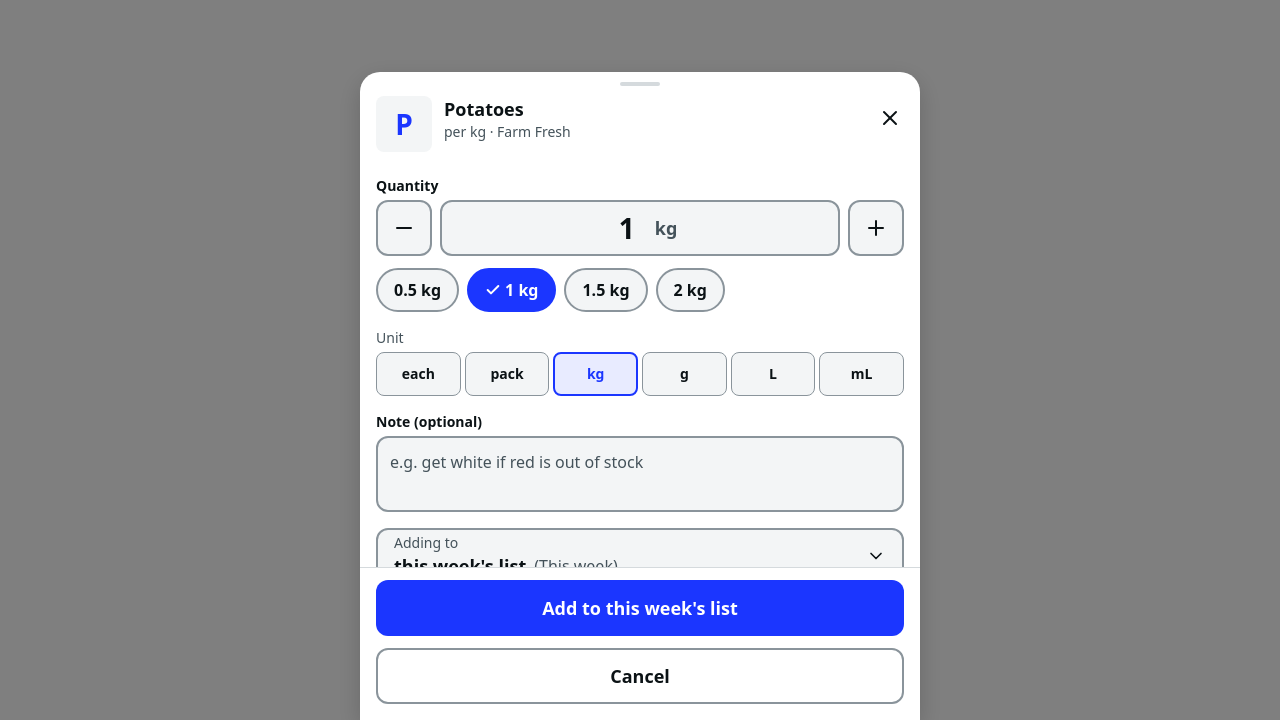
Test: QuantityModal › opens at the unit default and steps kg by 0.25 without float noise
The image size is (1280, 720).
Expected: the dialog is shown, [360,72,920,719]
Expected: the field labelled "Quantity" holds "1", [599,202,655,254]
Click the button named "Increase quantity" at (876, 228), box [848,200,904,256]
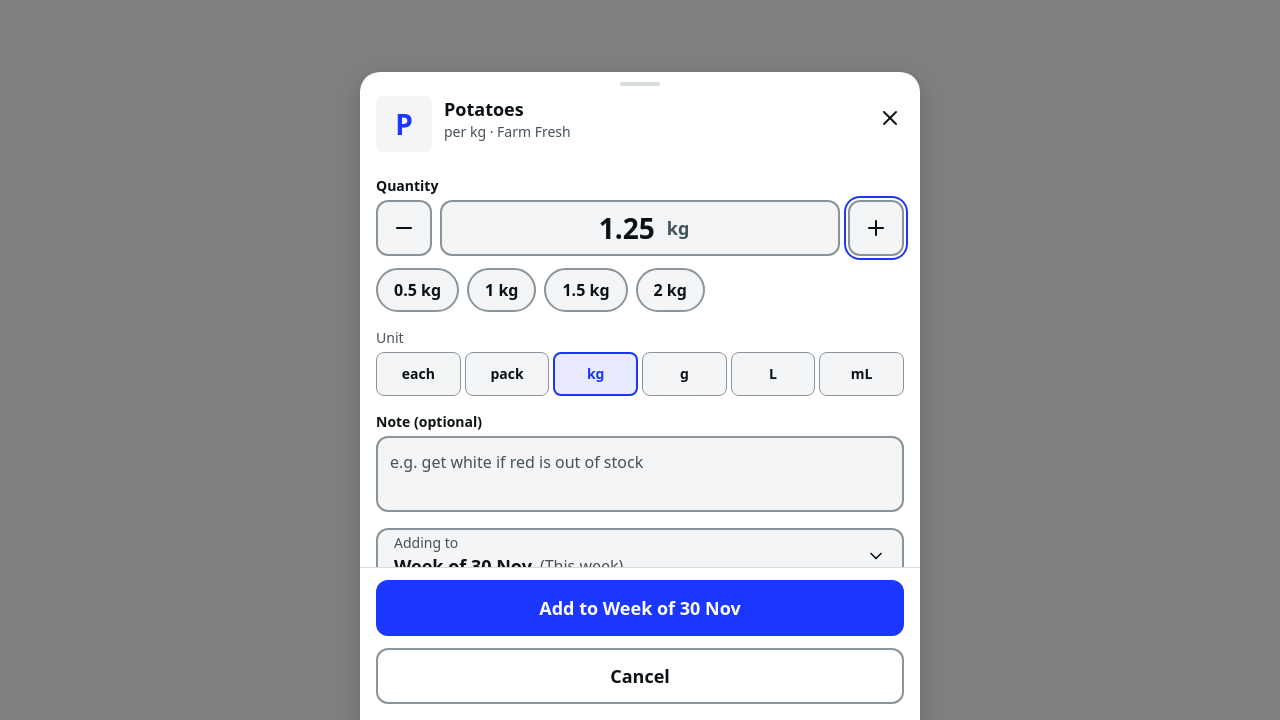
Click the button named "Increase quantity" at (876, 228), box [848,200,904,256]
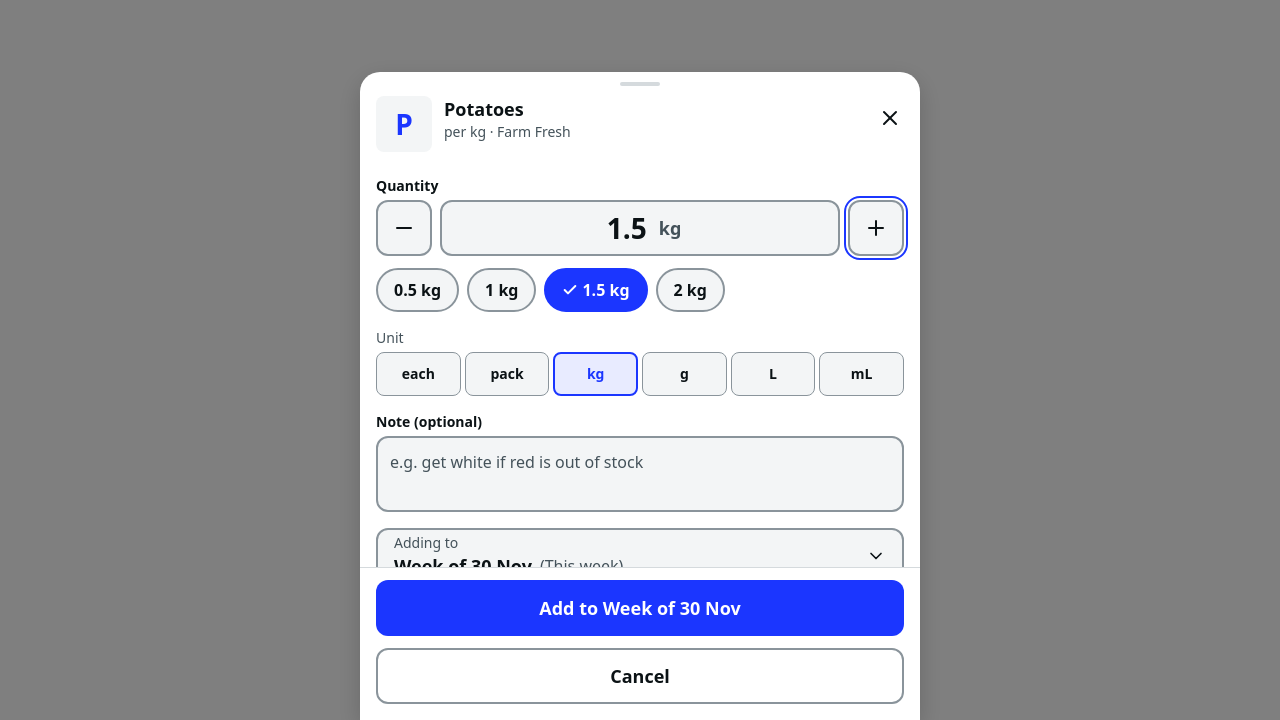
Click the button named "Increase quantity" at (876, 228), box [848,200,904,256]
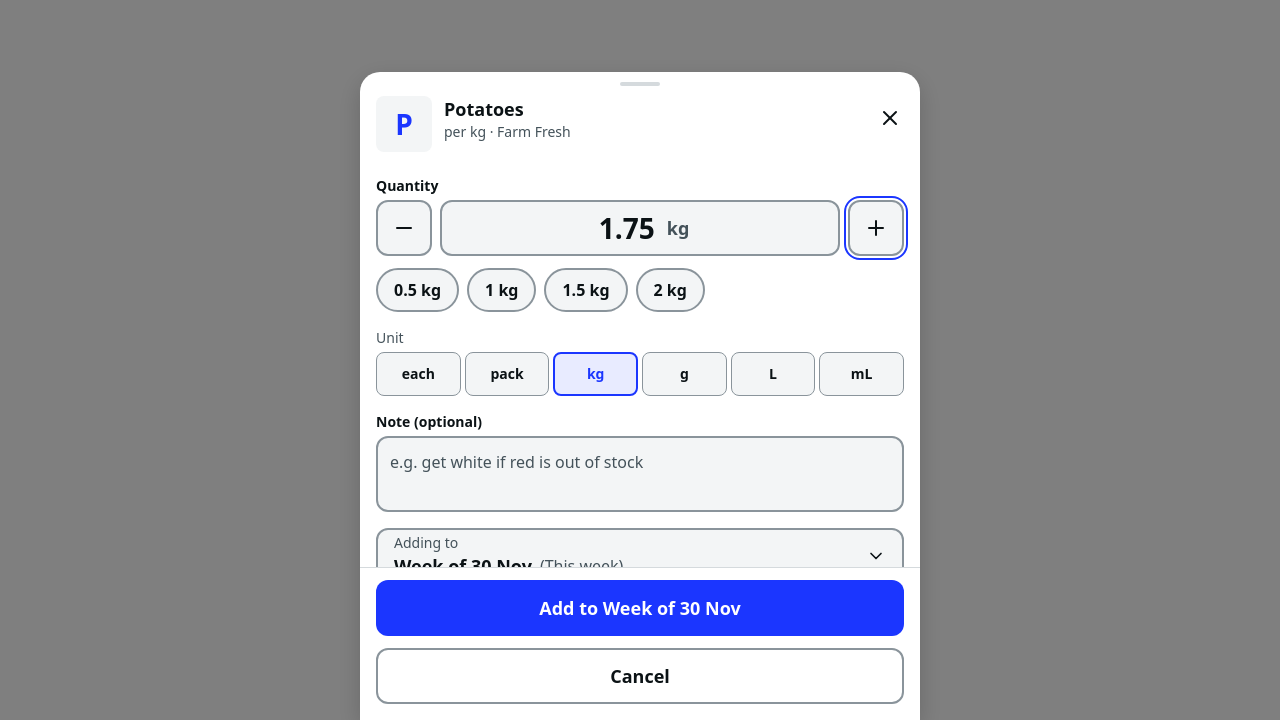
Now the field labelled "Quantity" holds "1.75", box [587,202,667,254]
Click the button named "Decrease quantity" at (404, 228), box [376,200,432,256]
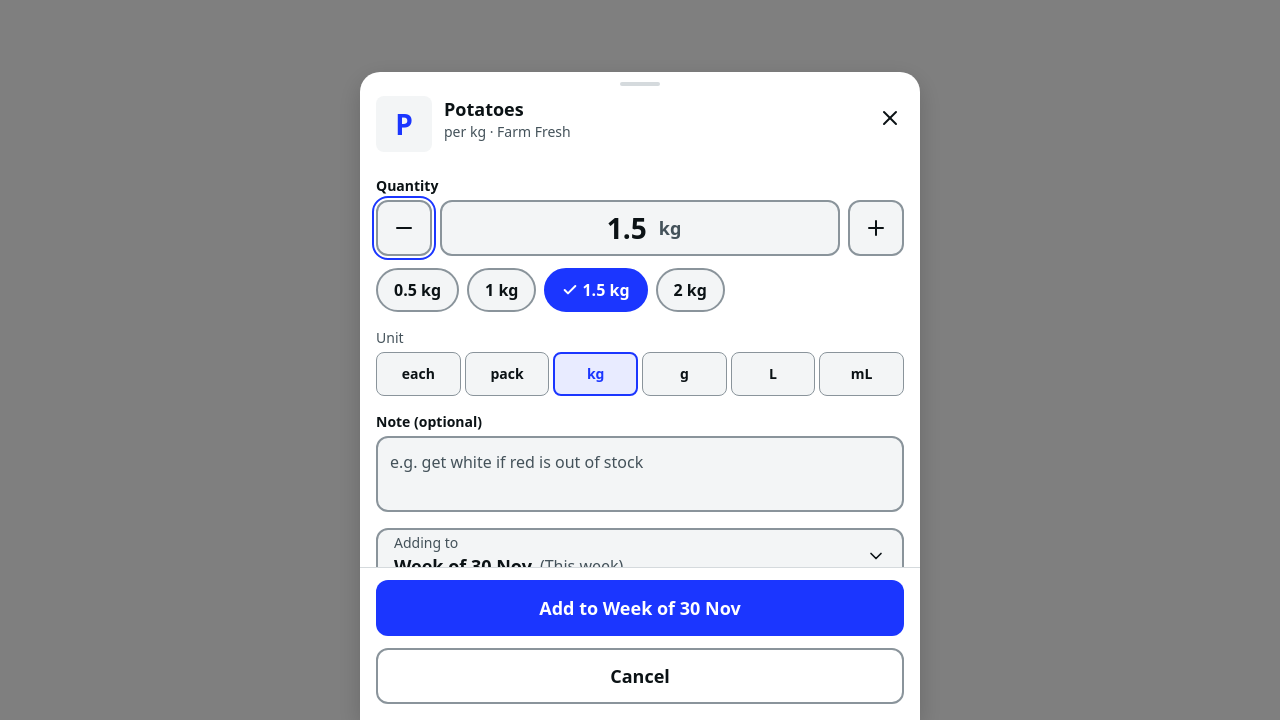
Now the field labelled "Quantity" holds "1.5", box [595,202,659,254]
